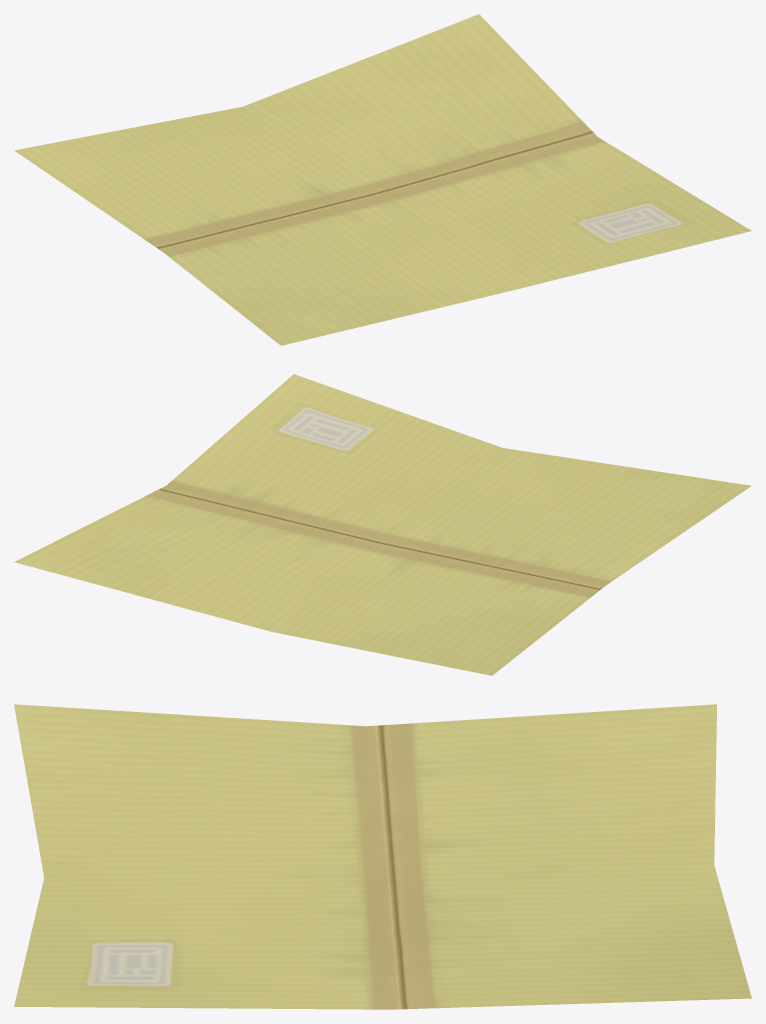
File: p_mesh_orangebox_part01.fbx
3 renders of one model, top to bottom at view 1: azimuth 30°, elevation 25°; view 2: azimuth 150°, elevation 25°; view 3: azimuth 270°, elevation 25°, orthographic. The views are drawn at different scales.
Visible parts, largest first — view 1: p_mesh_containers_vegboxorange_part01; view 2: p_mesh_containers_vegboxorange_part01; view 3: p_mesh_containers_vegboxorange_part01.
Part boxes in pixels (x1,y1,x2,y2): p_mesh_containers_vegboxorange_part01: (14, 14, 751, 345); p_mesh_containers_vegboxorange_part01: (14, 374, 751, 675); p_mesh_containers_vegboxorange_part01: (14, 704, 751, 1009).
Size of the model in its own units: 6.09 by 0.2713 by 6.18.
